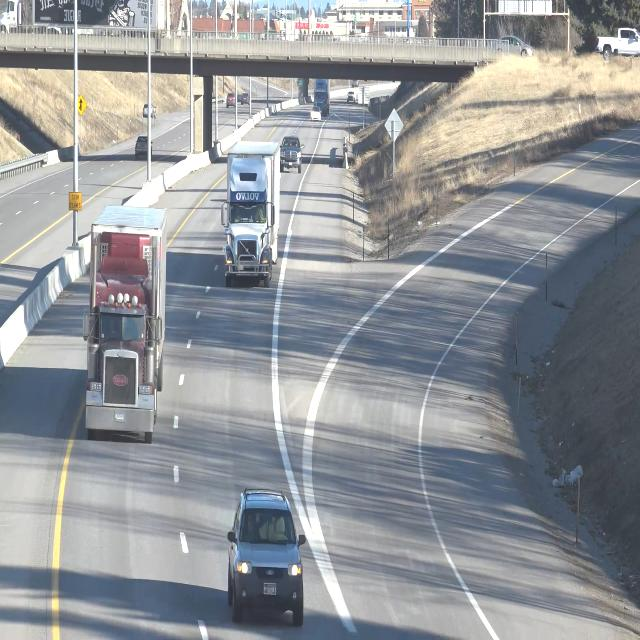Vehicle: (81, 206, 169, 444), (225, 485, 303, 617), (222, 140, 279, 284), (277, 125, 304, 178), (133, 131, 152, 163)
